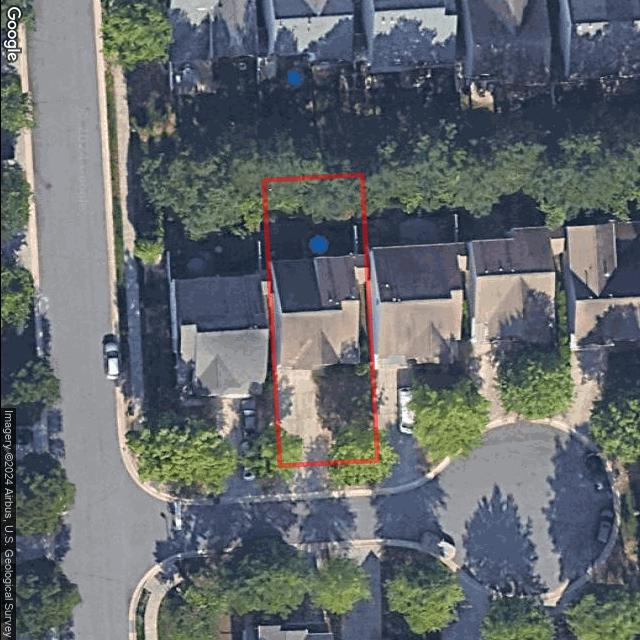Driveway: (273, 367, 328, 466)
Extra-Driveway: (279, 463, 328, 493)
Extra-Lawn: (328, 460, 376, 492)
House: (266, 252, 367, 368)
Lawn: (263, 175, 375, 466)
Other: (305, 224, 356, 259)
